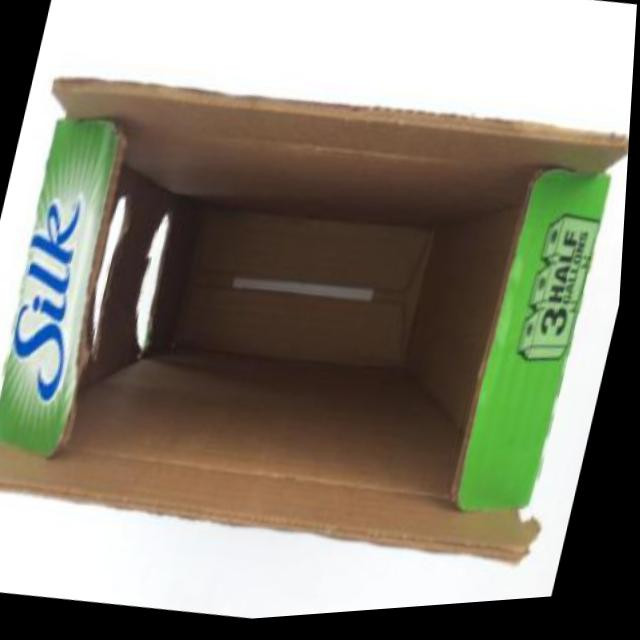box: (0, 5, 638, 637)
